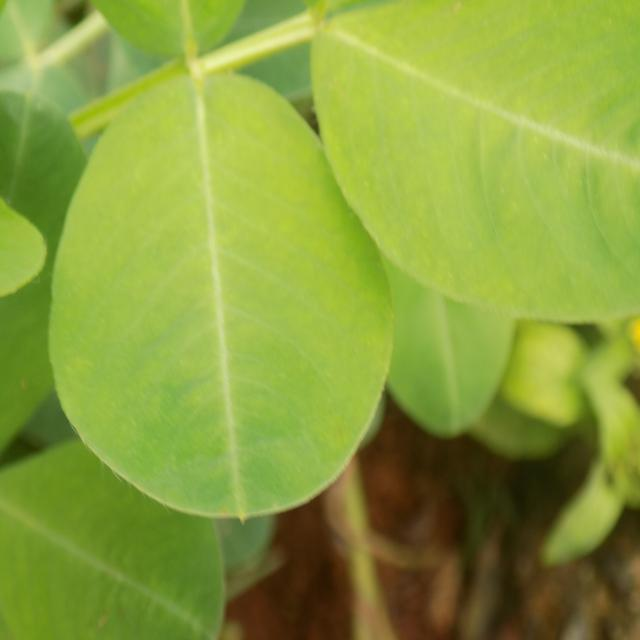Ground nut_healthy: (50, 55, 400, 518)
